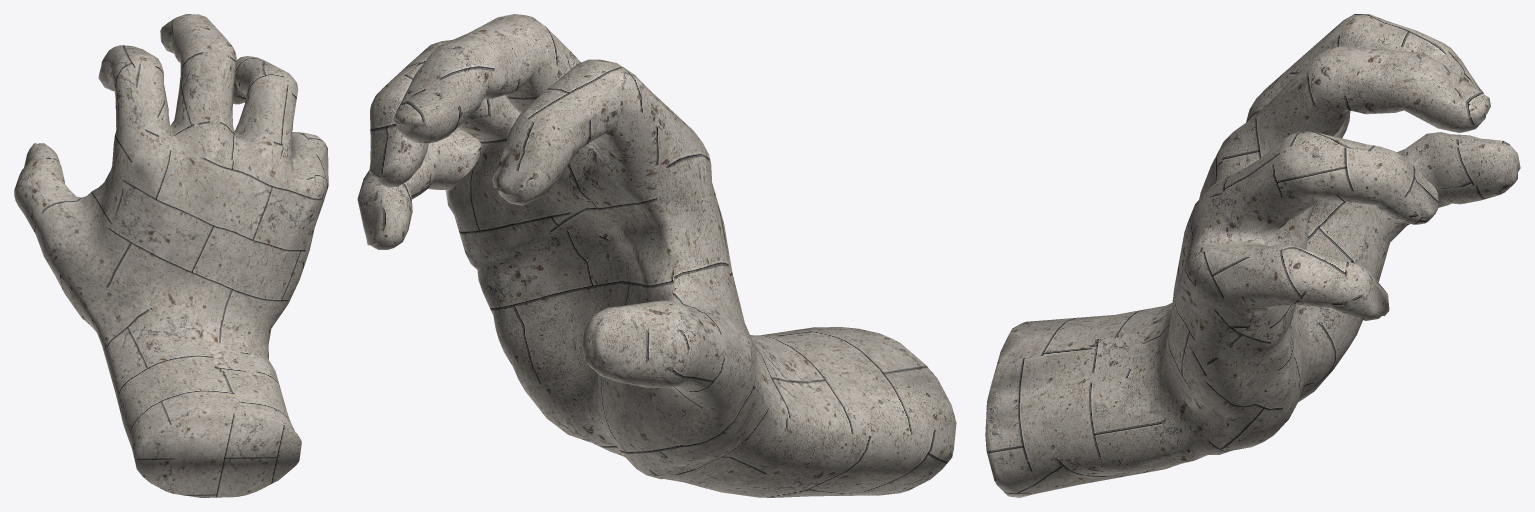
Rendered from hand1.fbx.
3 views of the same model, side by side, from view 1: azimuth 30°, elevation 25°; view 2: azimuth 150°, elevation 25°; view 3: azimuth 270°, elevation 25° (orthographic). The views are drawn at different scales.
Visible parts, largest first — view 1: hand1; view 2: hand1; view 3: hand1.
Part boxes in pixels (x1,y1,x2,y2): hand1: (14, 14, 328, 497); hand1: (357, 14, 956, 497); hand1: (985, 14, 1520, 497).
Bounding box in the file's own units: 1233 × 1525 × 1485.
Materials: 1 (1 with a texture image).
